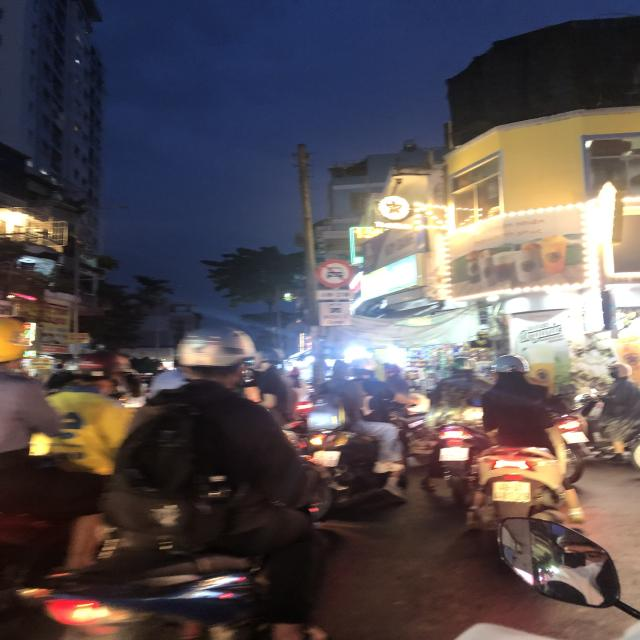Bien bao cam xe oto: (313, 257, 357, 287)
